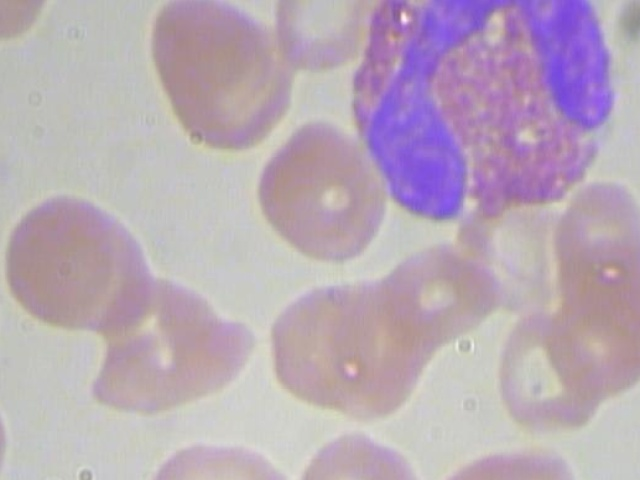RBC: (254, 116, 393, 262), (130, 0, 275, 122), (0, 182, 119, 328), (499, 314, 603, 429), (427, 419, 585, 480), (146, 419, 296, 480), (289, 419, 434, 480), (0, 0, 65, 45)
WBC: (340, 0, 629, 235)
